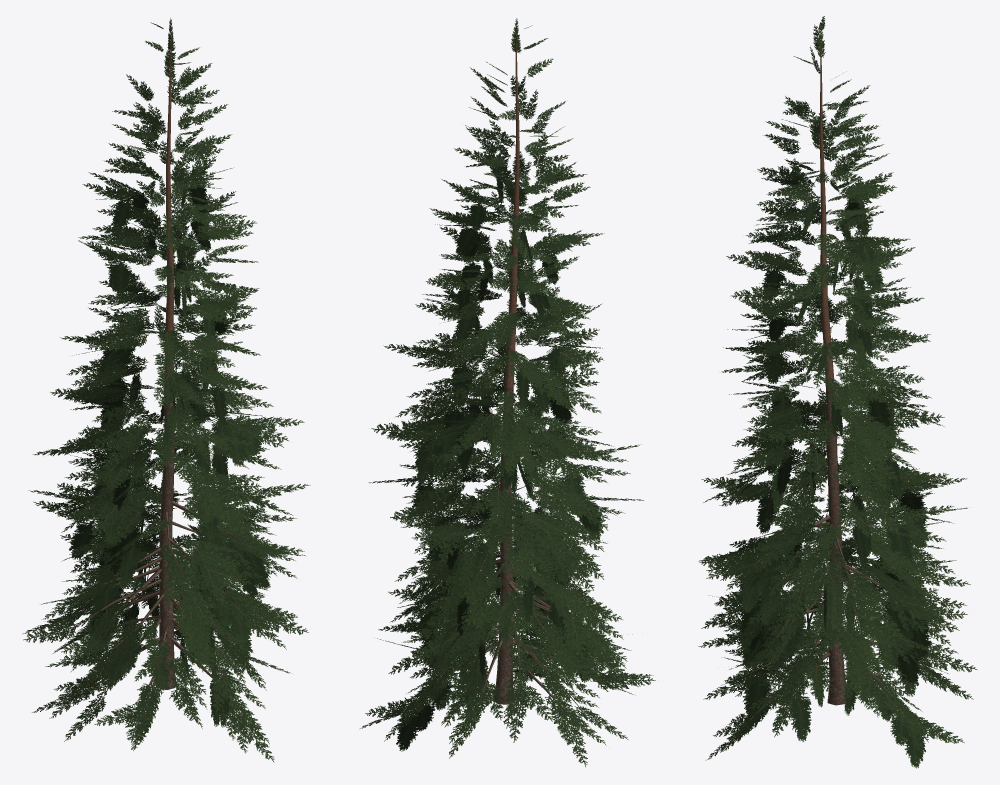
Rendered from spruce_c_LOD1.glb.
3 renders of one model, left to right at view 1: azimuth 30°, elevation 25°; view 2: azimuth 150°, elevation 25°; view 3: azimuth 270°, elevation 25°, orthographic.
Parts seen in each view (by area): view 1: Spruce_C_LOD1_Foliage, Spruce_C_LOD1_Bark; view 2: Spruce_C_LOD1_Foliage, Spruce_C_LOD1_Bark; view 3: Spruce_C_LOD1_Foliage, Spruce_C_LOD1_Bark.
Boxes of the visible parts, bbox=[...] form: Spruce_C_LOD1_Foliage: bbox=[22, 18, 310, 762]; Spruce_C_LOD1_Bark: bbox=[70, 19, 265, 726]; Spruce_C_LOD1_Foliage: bbox=[360, 18, 655, 766]; Spruce_C_LOD1_Bark: bbox=[414, 18, 610, 728]; Spruce_C_LOD1_Foliage: bbox=[698, 16, 977, 768]; Spruce_C_LOD1_Bark: bbox=[738, 25, 927, 731].
Size of the model in its own units: 11.78 by 29.86 by 11.09.
Materials: 2 (2 with a texture image).
